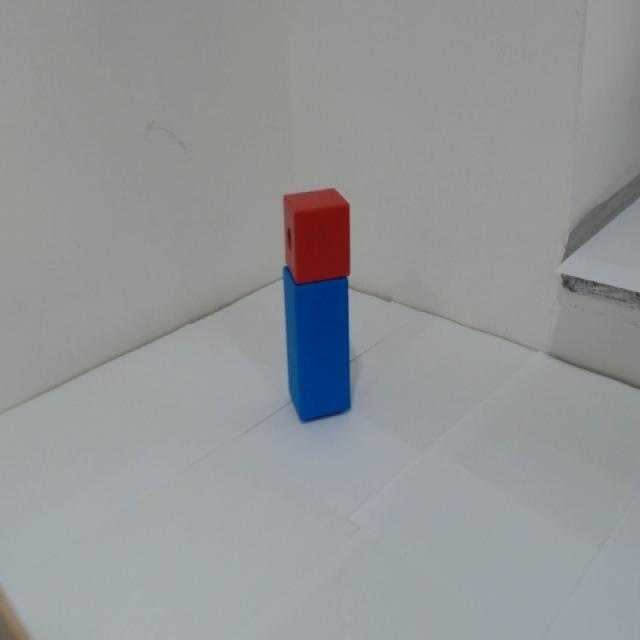cube: (276, 170, 362, 286)
